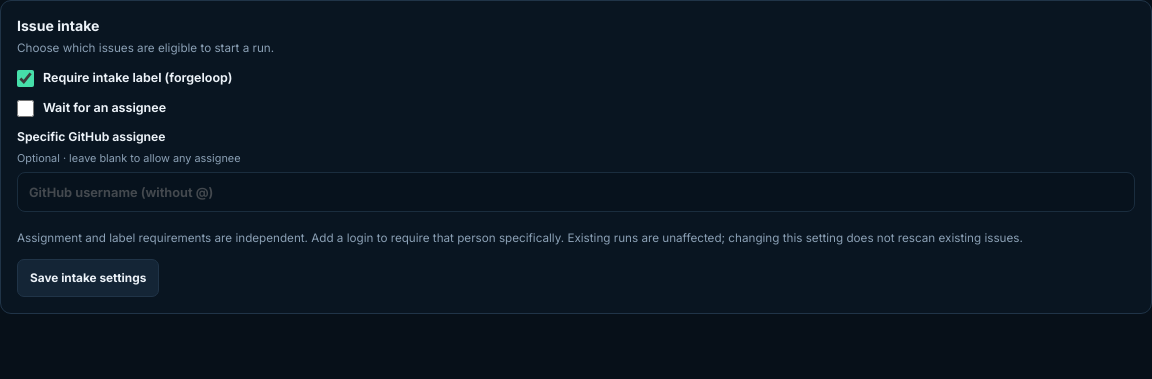
persists the explicit assignee and surfaces failures
Click the checkbox named "Wait for assignment on org/repo". click: (26, 109)
box: [17, 100, 34, 117]
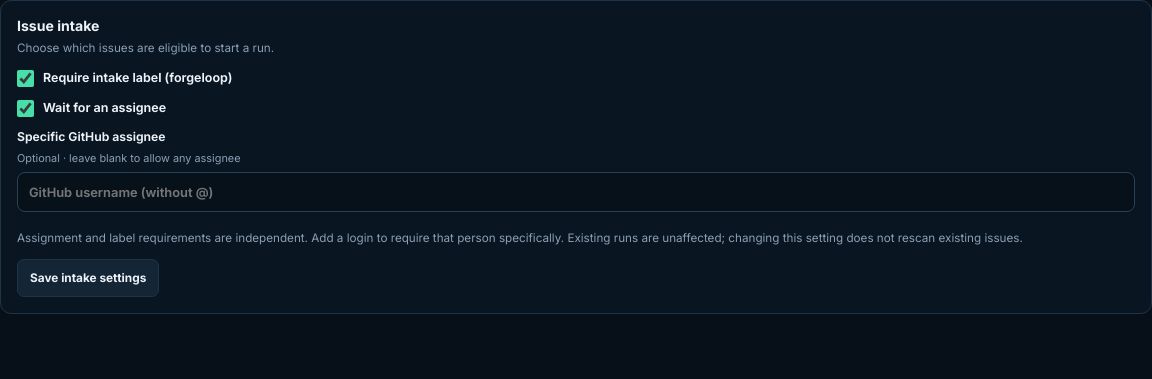
Type "worker" into the field. click: (576, 192)
box: [17, 172, 1135, 212]
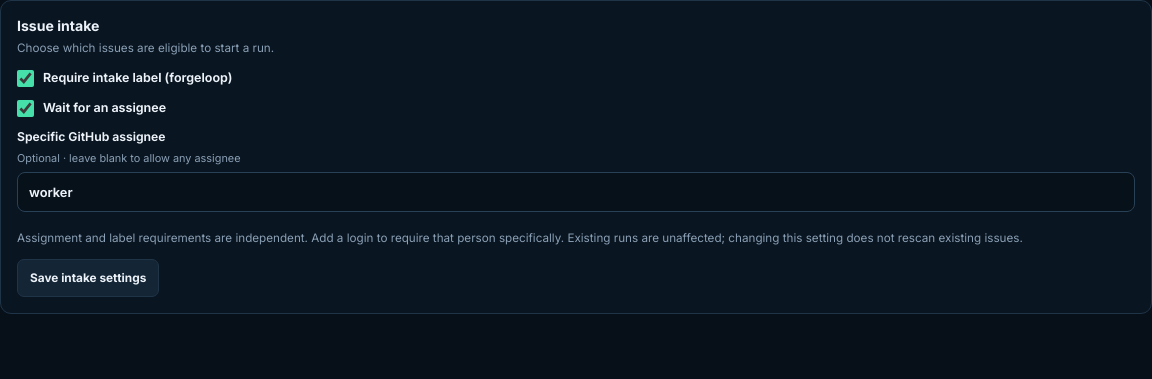
Click the button "Save intake settings". click: (88, 278)
box: [17, 259, 159, 297]
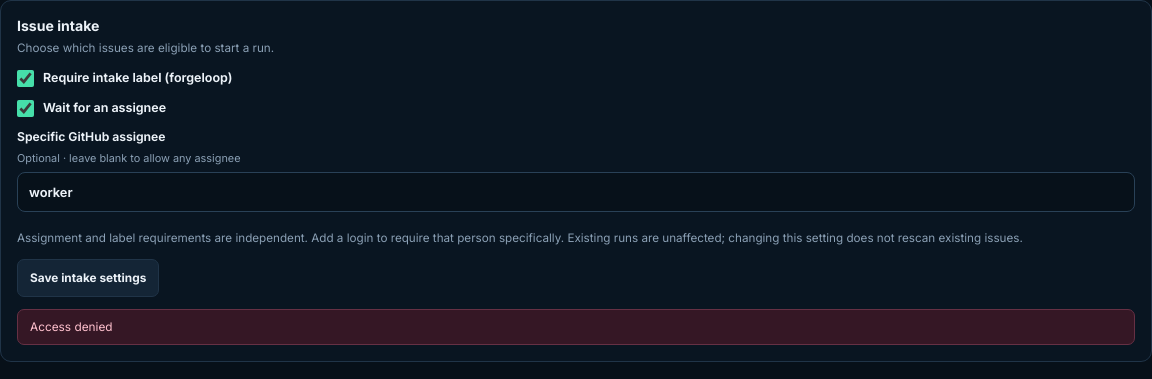
Now the message reads "Access denied", box [30, 320, 112, 334]
